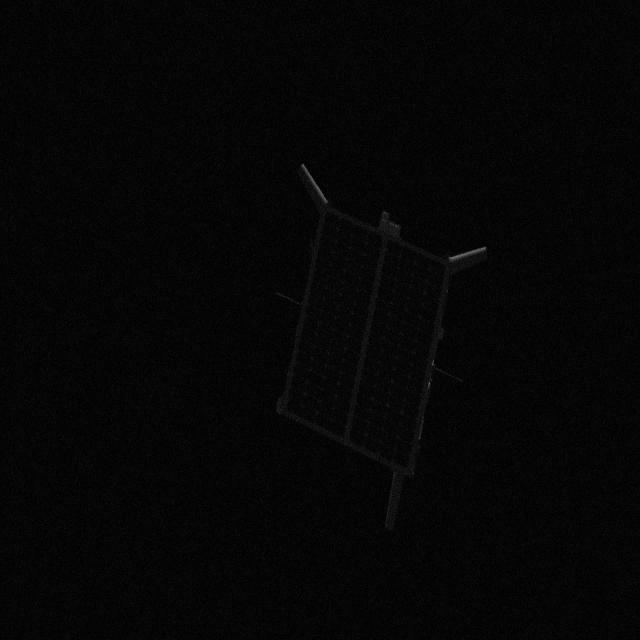medium_debris: (266, 150, 494, 536)
